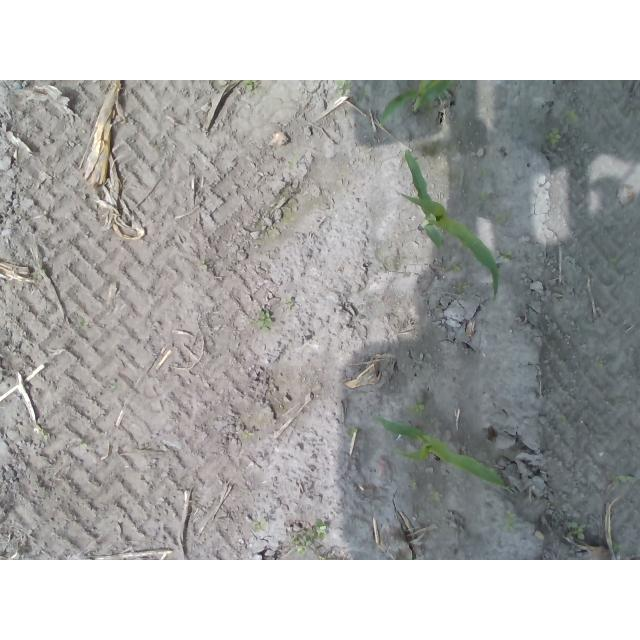Maize: (398, 147, 504, 306), (375, 412, 513, 492), (373, 81, 457, 128)
Weeds: (295, 524, 328, 557), (256, 308, 273, 335), (506, 512, 519, 533), (571, 523, 585, 542), (335, 80, 354, 93), (547, 128, 561, 144), (251, 517, 265, 531), (242, 80, 258, 92), (411, 402, 426, 414), (617, 474, 636, 483), (242, 429, 254, 440), (500, 252, 513, 262), (431, 490, 442, 500), (495, 213, 506, 223), (452, 263, 461, 273), (408, 481, 417, 488)
